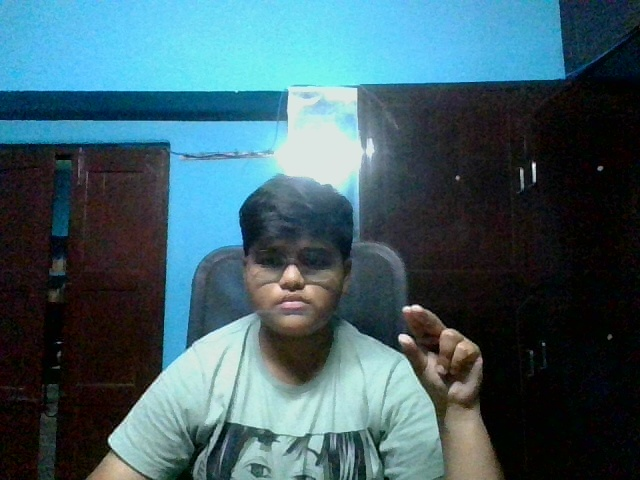NO: (389, 296, 489, 417)
